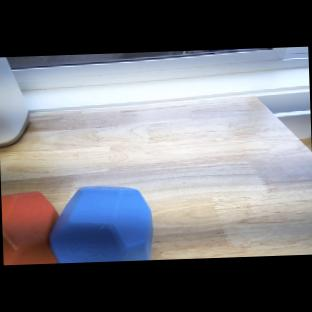V5_BLUE: (50, 182, 153, 264)
V5_RED: (1, 192, 60, 266)
